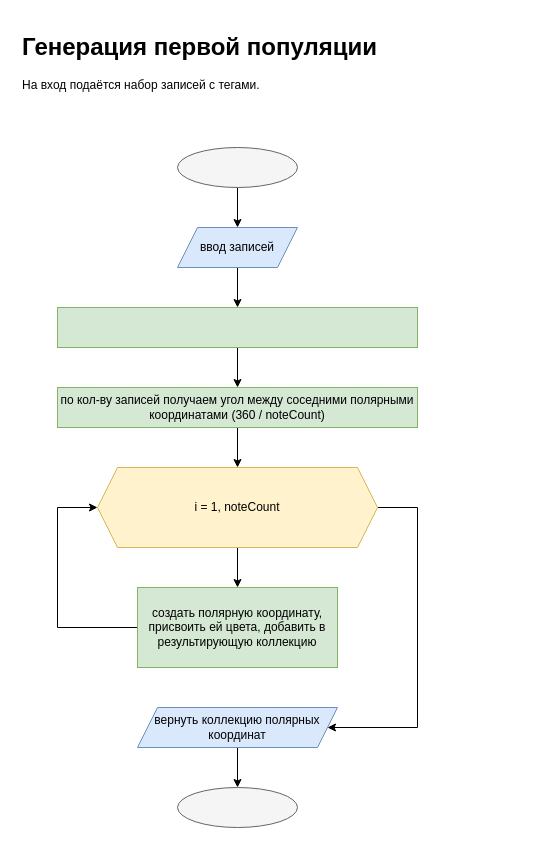
Image size: 554x845. Some labels were removed from this diagram. Each missing label, with the box of its shape:
конец: (176, 786, 298, 828)
начало: (176, 146, 298, 188)
определение кол-ва уникальных тегов, присвоение им цветов для отображения: (56, 306, 418, 348)
